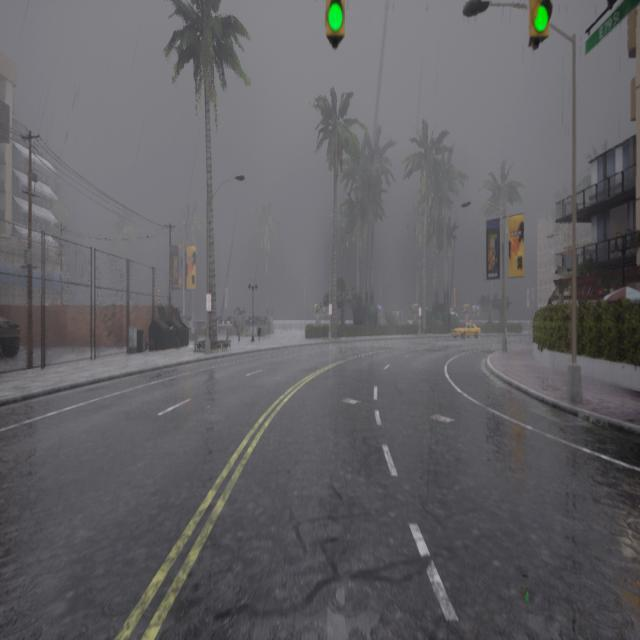9: (527, 0, 553, 54), (323, 0, 347, 51)
bien_hieu_lenh: (532, 2, 552, 36), (326, 1, 345, 36)
